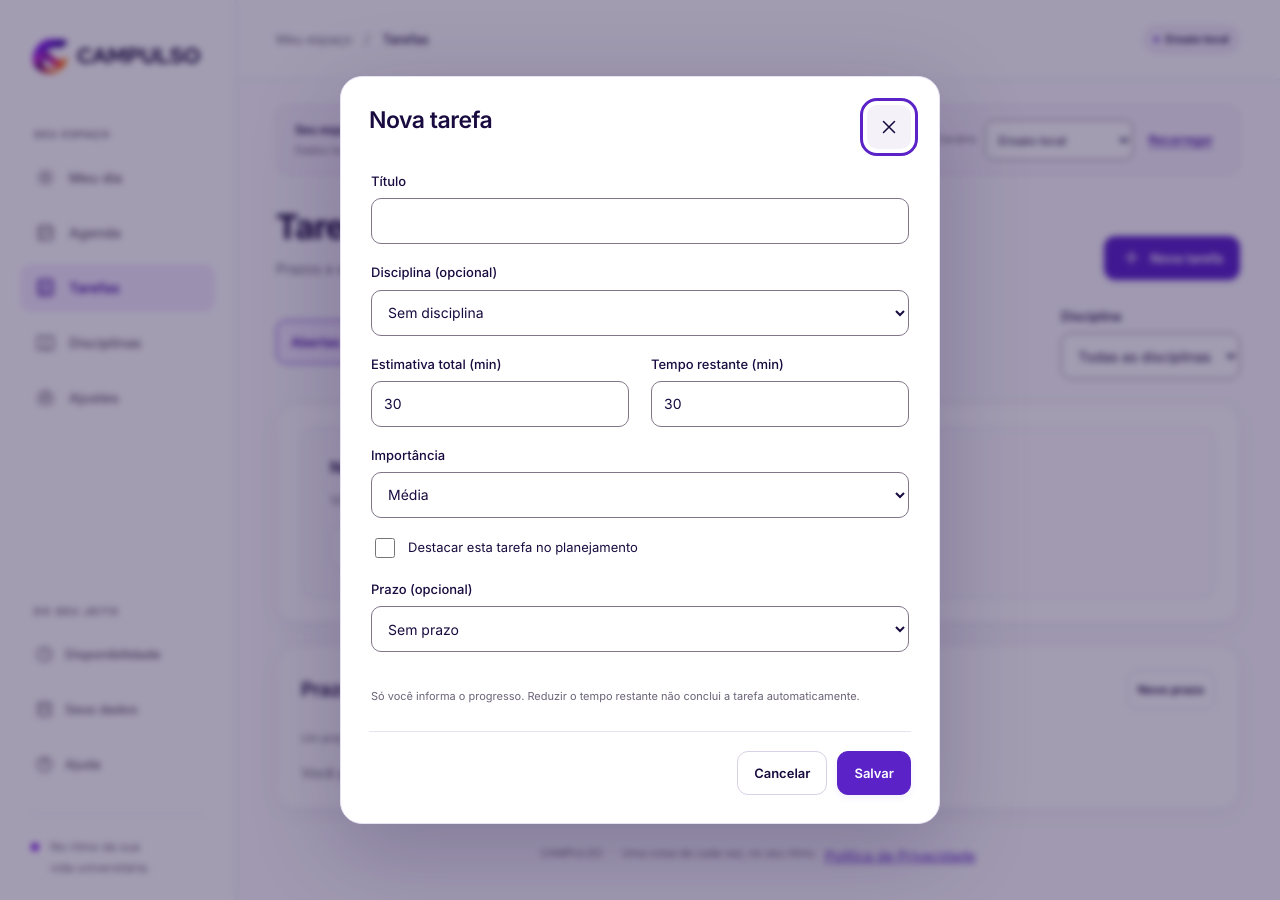
Integração dos componentes React em DOM simulado (não é homologação de navegador) › editor grava tarefa e prazo inline sem perder progresso nem o vínculo na edição
Earlier steps of the test are not shown.
Later steps or results of the test are not shown.
Type "Resumo acadêmico" into the field labelled "Título".
click(640, 221); type("Resumo acadêmico")  # box [371,198,909,244]
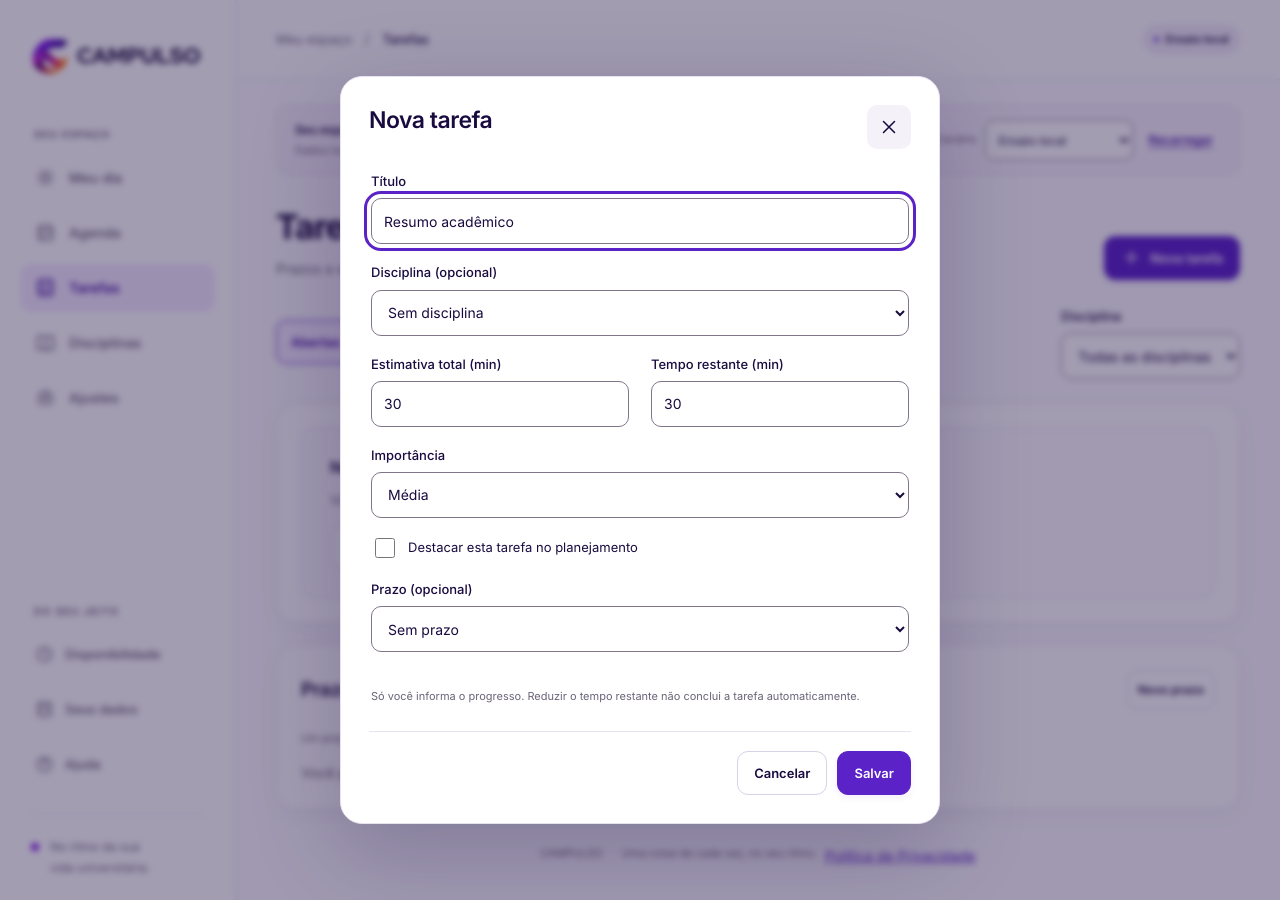
Replace the text in the number field labelled "Estimativa total (min)" with "60" at (500, 404), box [371,381,629,427]
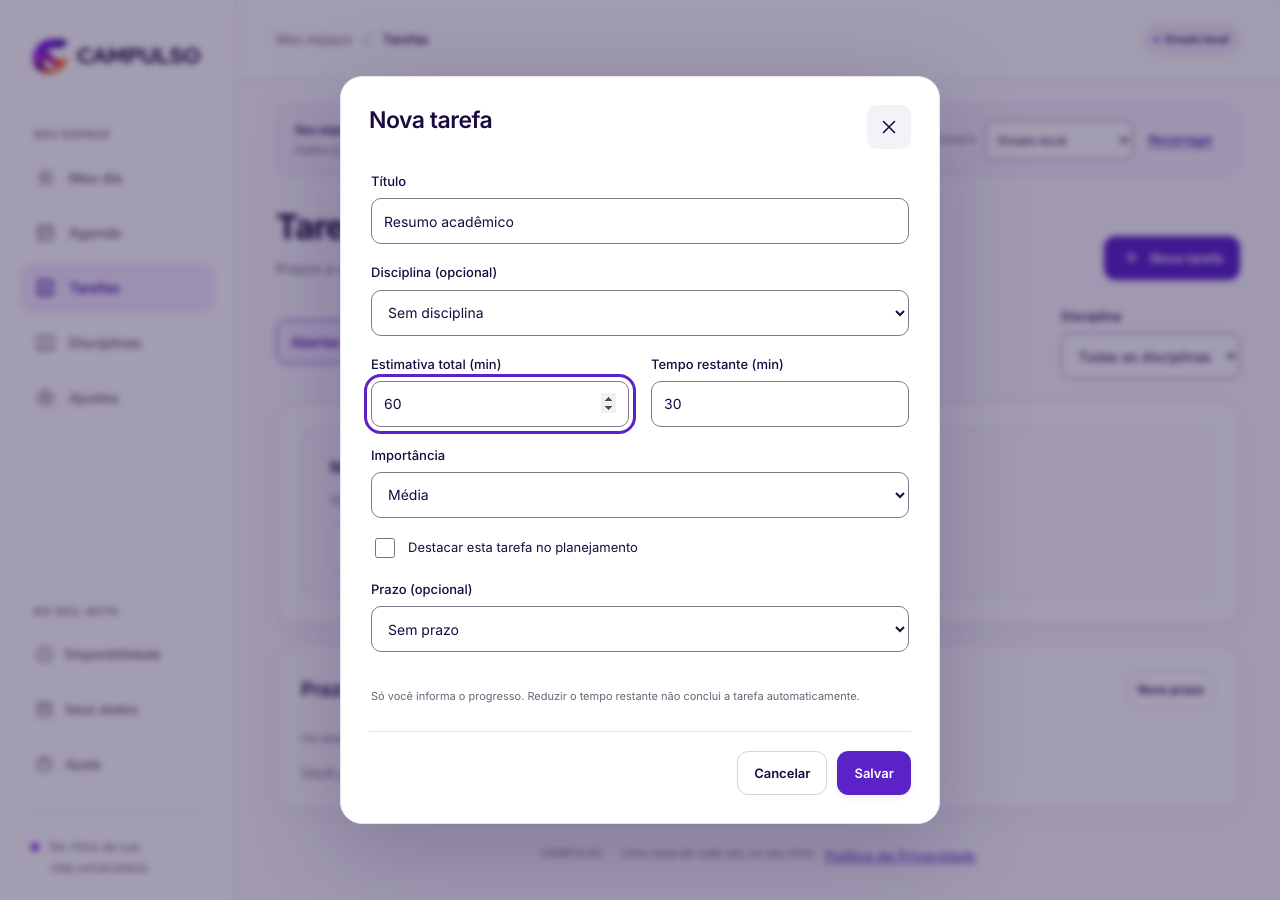
Replace the text in the number field labelled "Tempo restante (min)" with "25" at (780, 404), box [651,381,909,427]
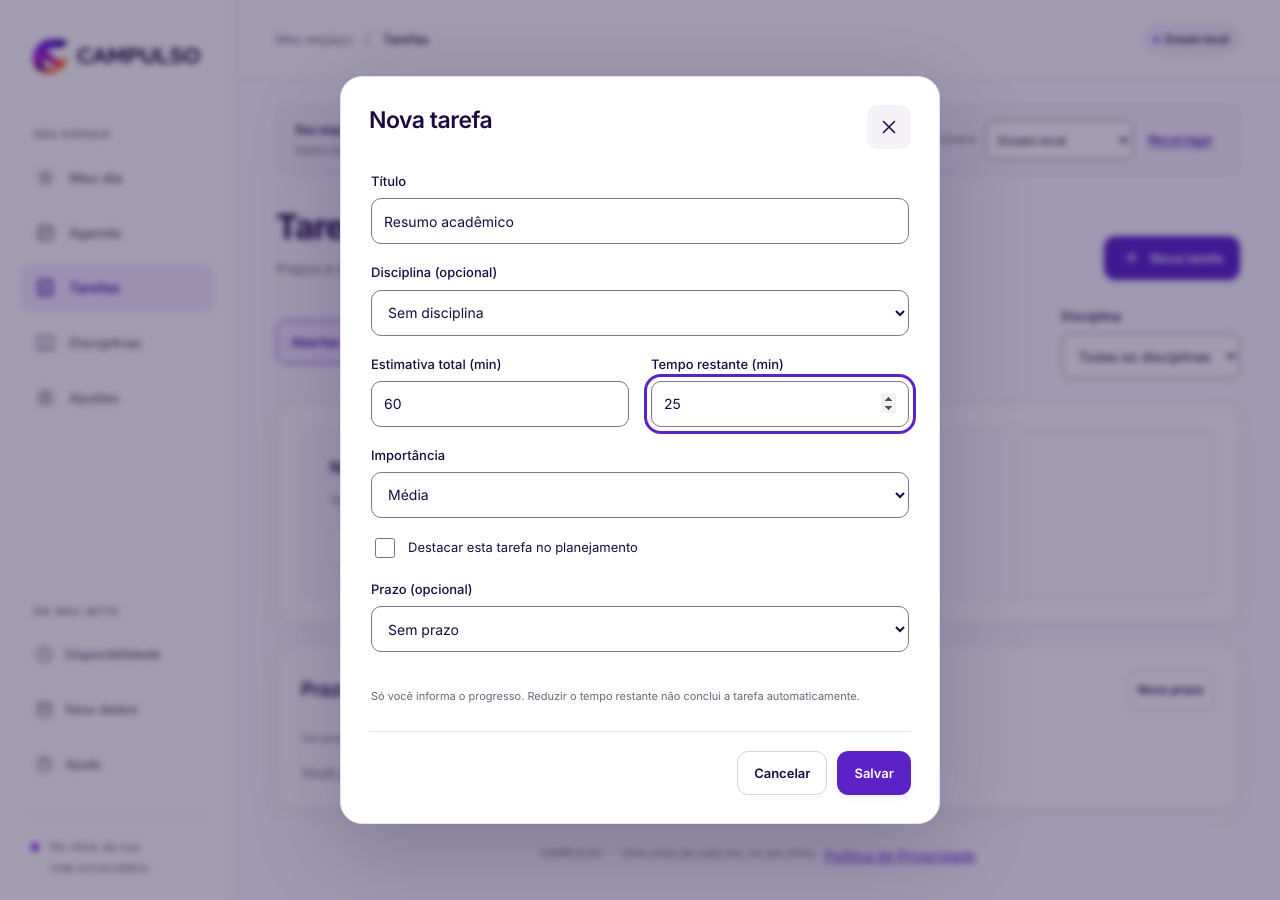
Select "Alta" in the dropdown labelled "Importância" at (640, 495), box [371,472,909,518]
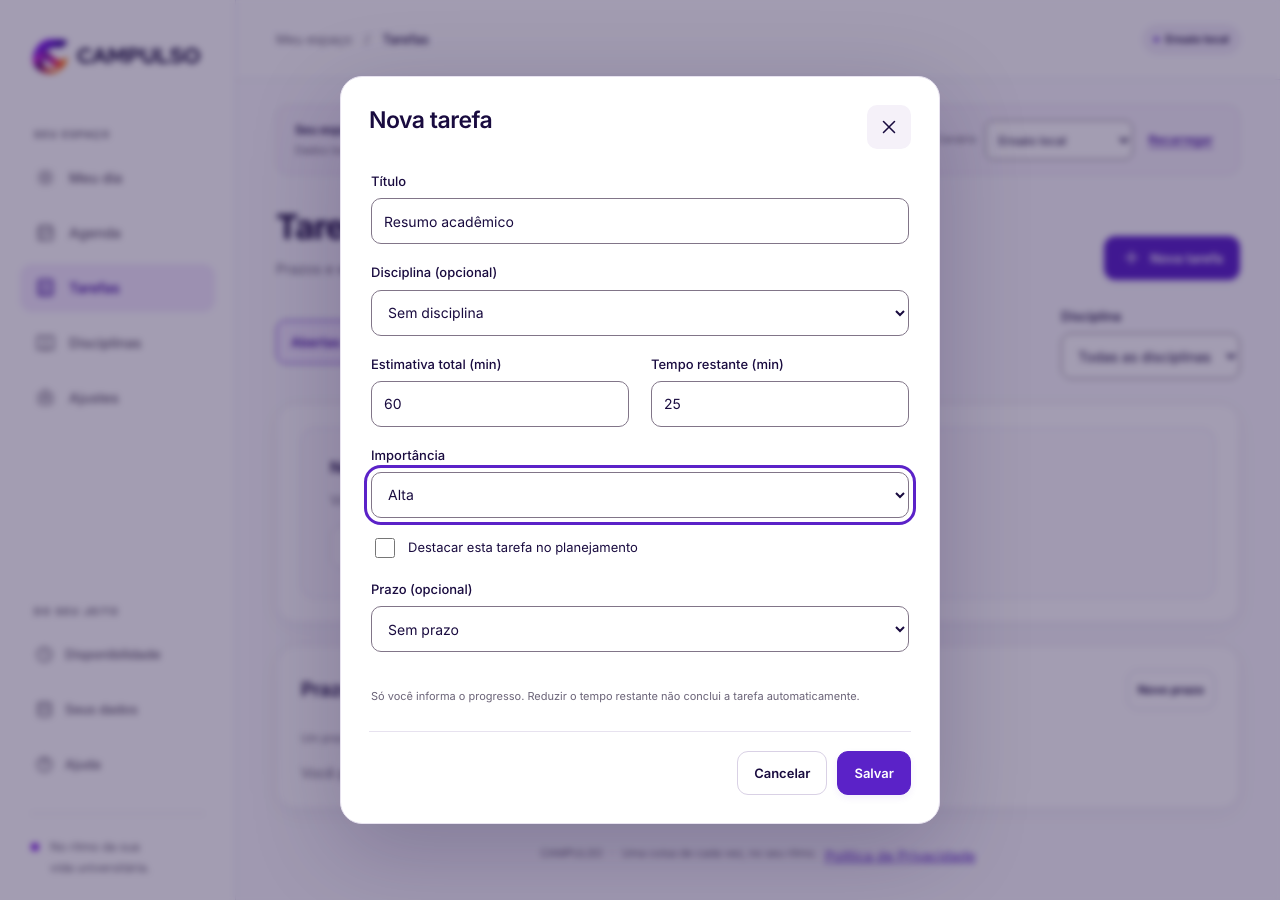
Select "Data, sem horário" in the dropdown labelled "Prazo (opcional)" at (640, 629), box [371,606,909,652]
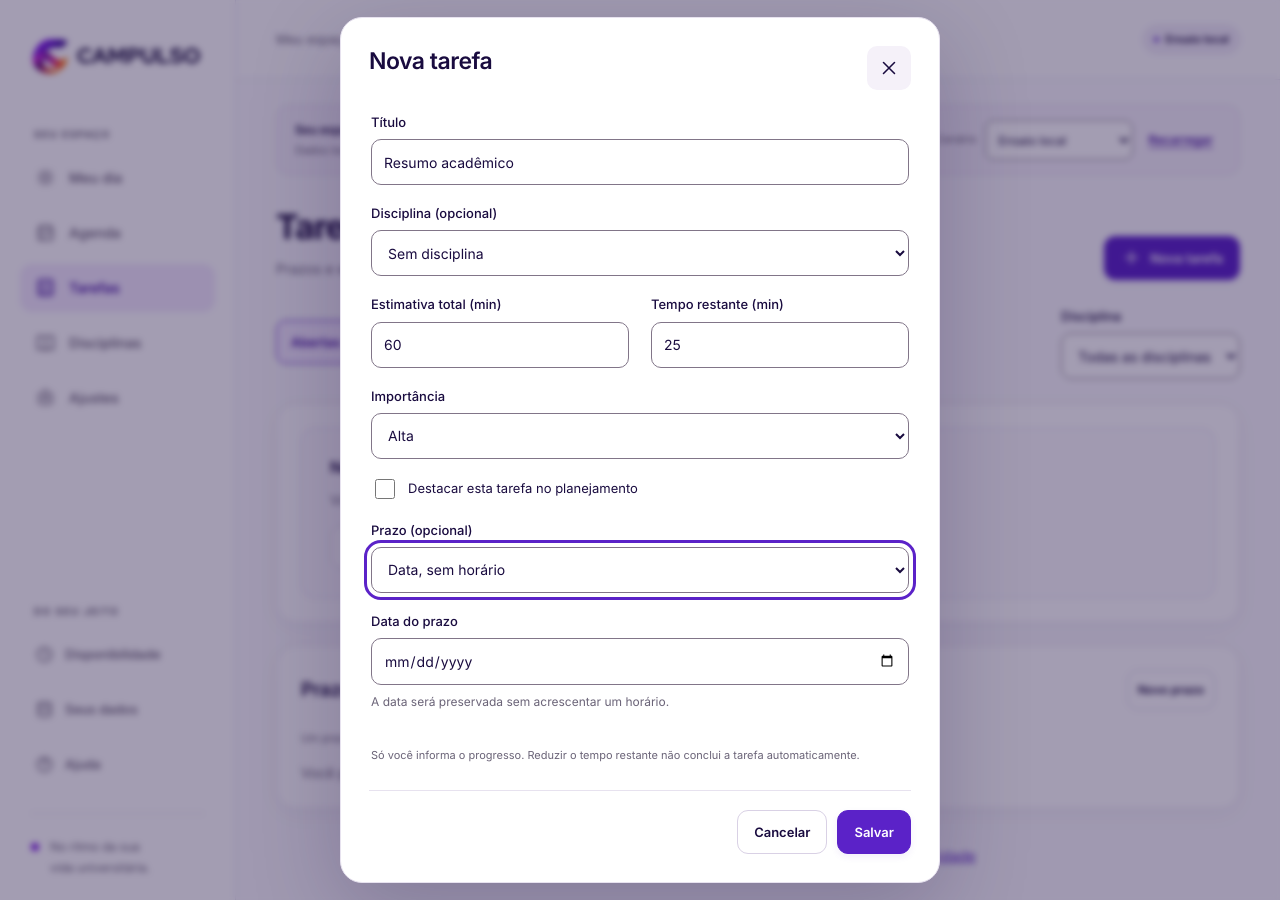
Type "2026-11-25" into the date field labelled "Data do prazo".
click(640, 662); type("2026-11-25")  # box [371,638,909,685]
Click the button "Salvar".
click(874, 832)  # box [837,810,911,854]
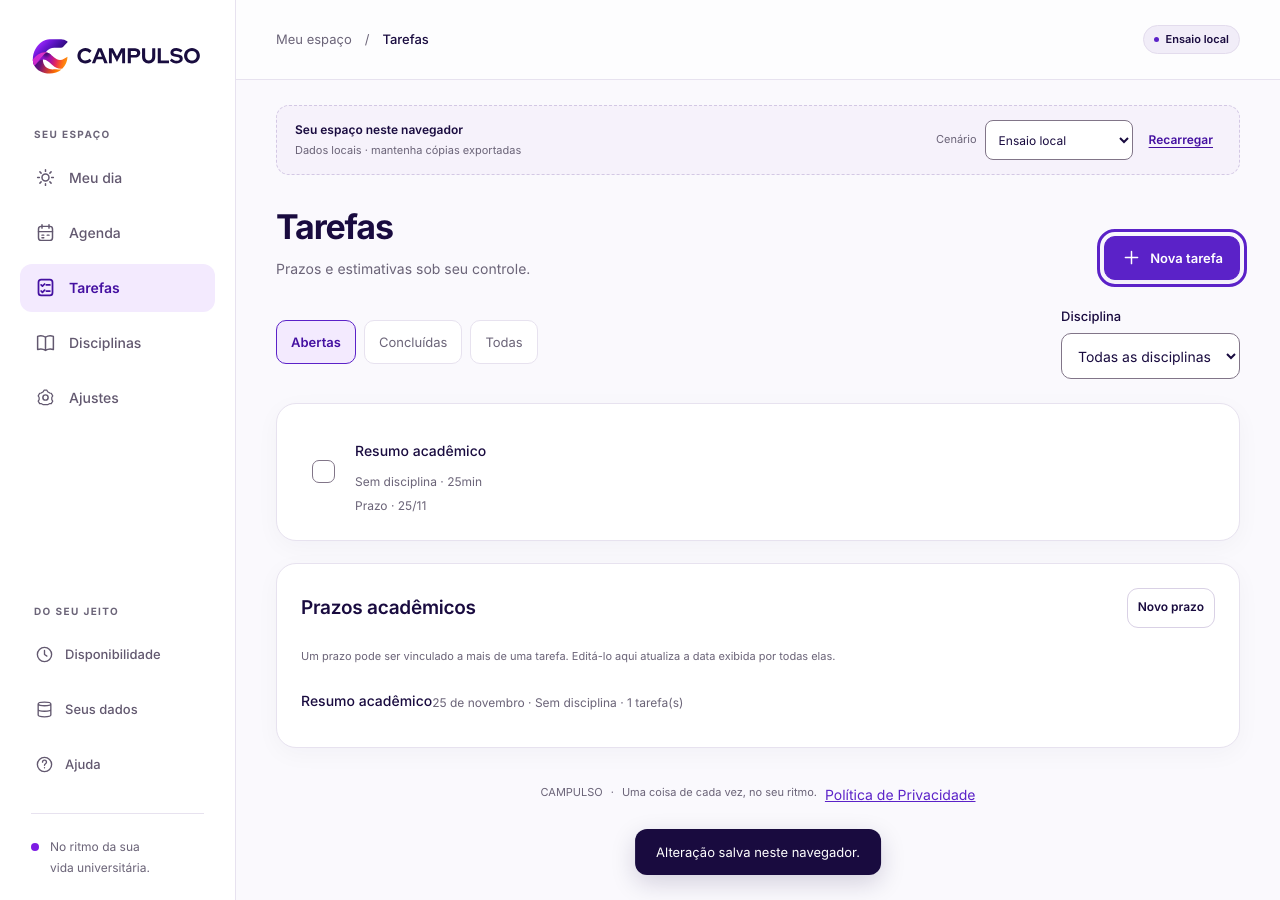
Expected: the dialog is gone
